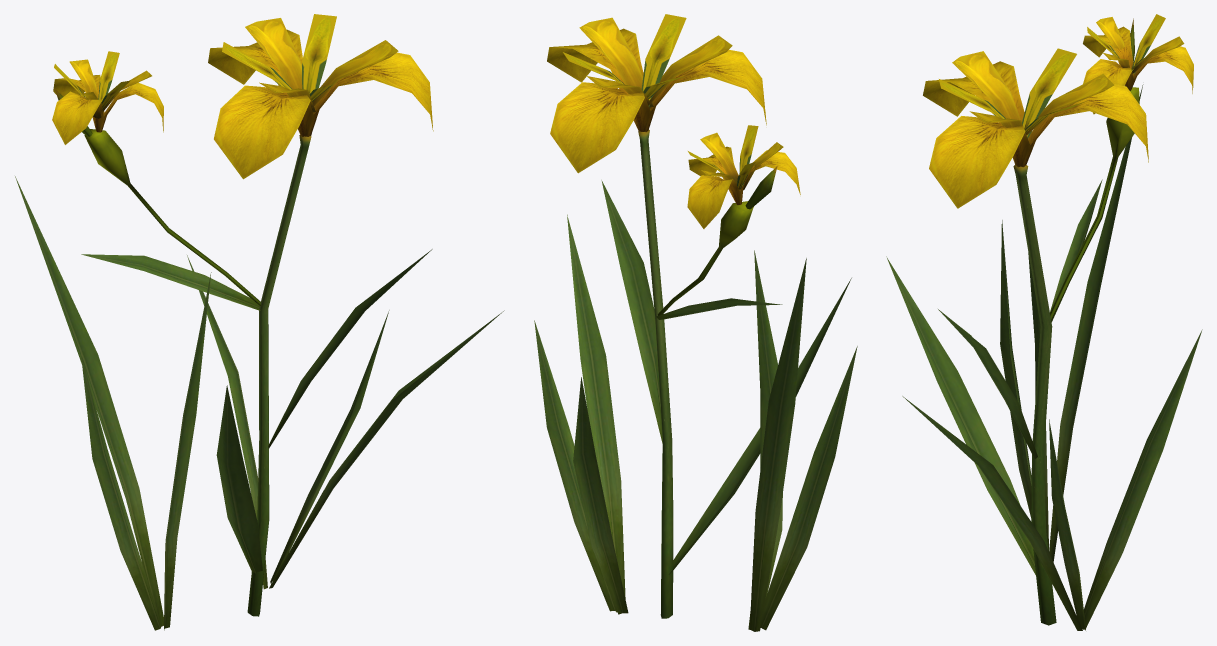
Rendered from Iris_pseudoacorus.FBX.
3 renders of one model, left to right at view 1: azimuth 30°, elevation 25°; view 2: azimuth 150°, elevation 25°; view 3: azimuth 270°, elevation 25°, orthographic. The views are drawn at different scales.
Parts seen in each view (by area): view 1: Iris_pseudoacorus, Iris_pseudoacorusB; view 2: Iris_pseudoacorus, Iris_pseudoacorusB; view 3: Iris_pseudoacorus, Iris_pseudoacorusB.
Part boxes in pixels (bbox=[...]): Iris_pseudoacorus: bbox=[52, 14, 504, 616]; Iris_pseudoacorusB: bbox=[15, 176, 211, 630]; Iris_pseudoacorus: bbox=[534, 14, 851, 618]; Iris_pseudoacorusB: bbox=[748, 250, 857, 631]; Iris_pseudoacorus: bbox=[886, 14, 1202, 630]; Iris_pseudoacorusB: bbox=[1000, 84, 1143, 562].
Size of the model in its own units: 41.33 by 60.58 by 31.
